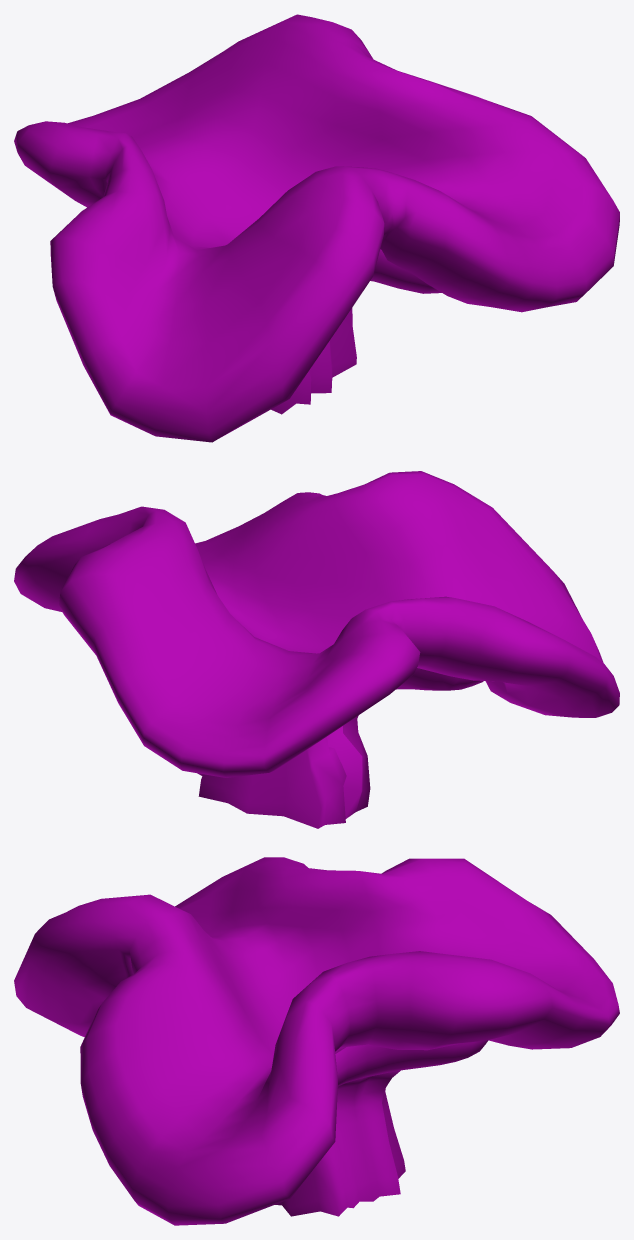
File: Coral_Bed.fbx
3 views of the same model, one above another, from view 1: azimuth 30°, elevation 25°; view 2: azimuth 150°, elevation 25°; view 3: azimuth 270°, elevation 25° (orthographic). The views are drawn at different scales.
Visible parts, largest first — view 1: Coral_Bed; view 2: Coral_Bed; view 3: Coral_Bed.
Boxes of the visible parts, bbox=[...] form: Coral_Bed: bbox=[14, 14, 619, 442]; Coral_Bed: bbox=[14, 471, 619, 828]; Coral_Bed: bbox=[14, 857, 619, 1225].
Size of the model in its own units: 24.96 by 12.12 by 22.92.
